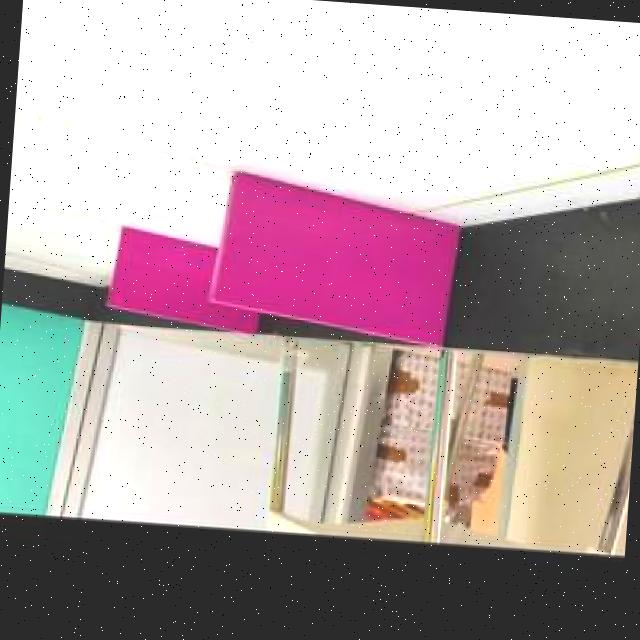xparking: (210, 172, 462, 344), (108, 227, 217, 323)
